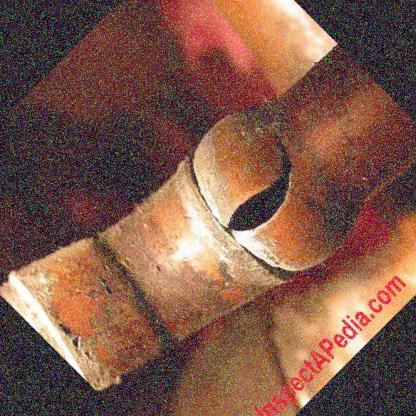burst: (204, 135, 317, 250)
